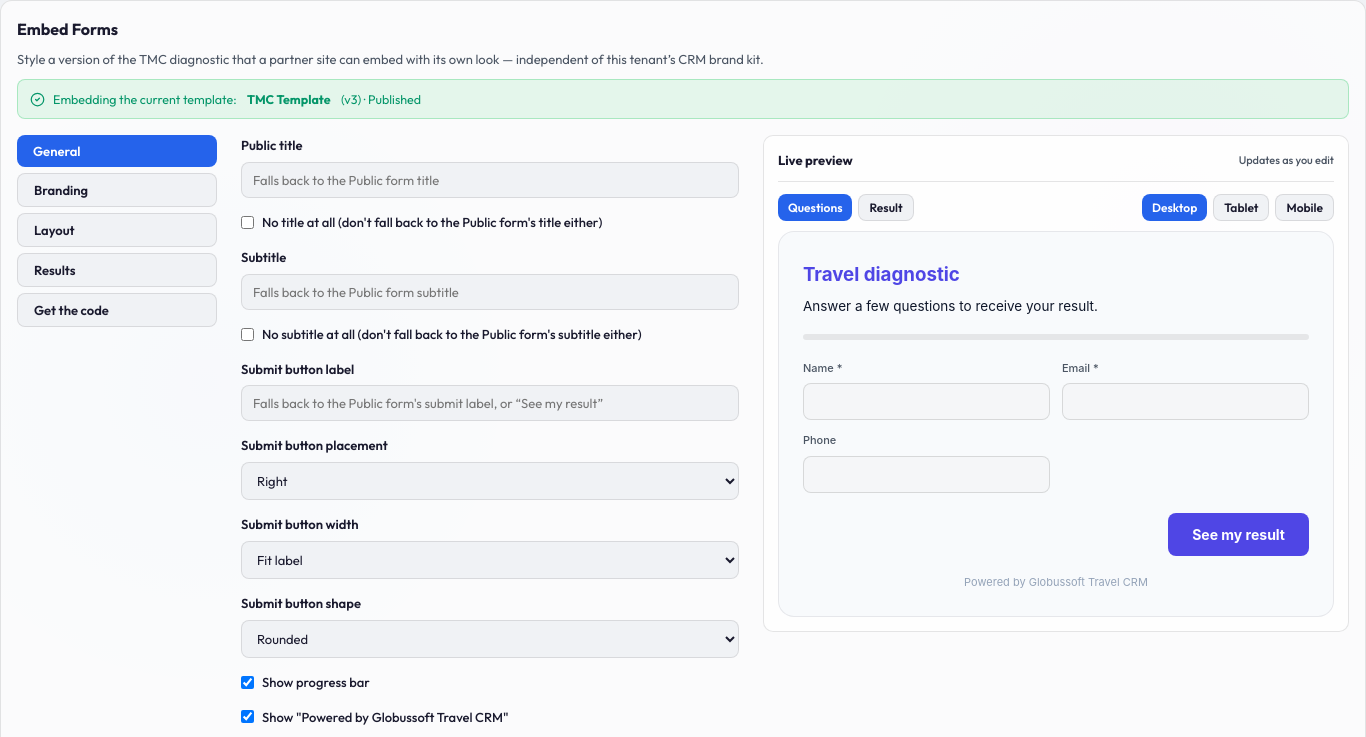
Test: DiagnosticEmbedFormsPanel — preview parity with the real widget (2026-09-08) › the Result preview shows the "Recommendations heading" text, not just the sample cards
The width and height of the screenshot is (1366, 737).
Expected: the text "TMC Template" is shown, [244,89,333,109]
Click the button "Result". click: (886, 208)
box: [858,194,914,221]
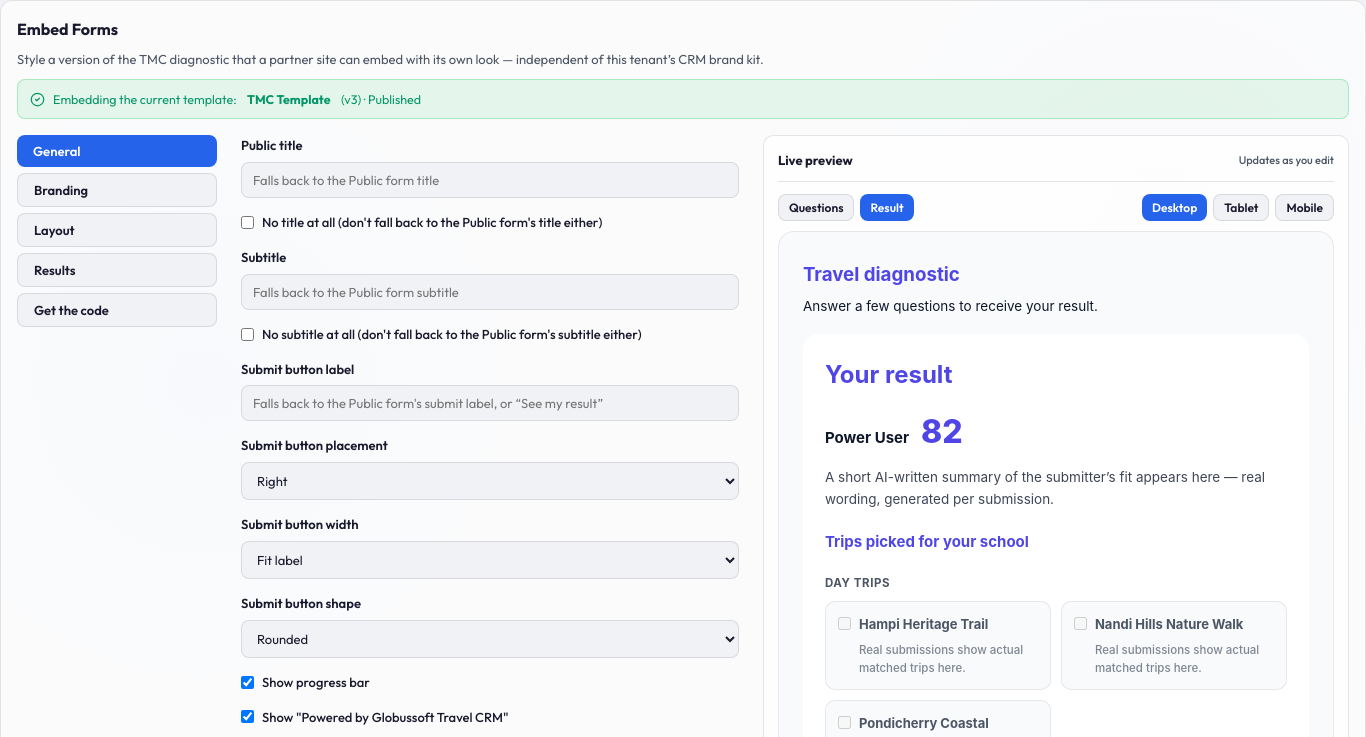
Expected: the heading "Trips picked for your school" is shown, [825,532,1029,552]
